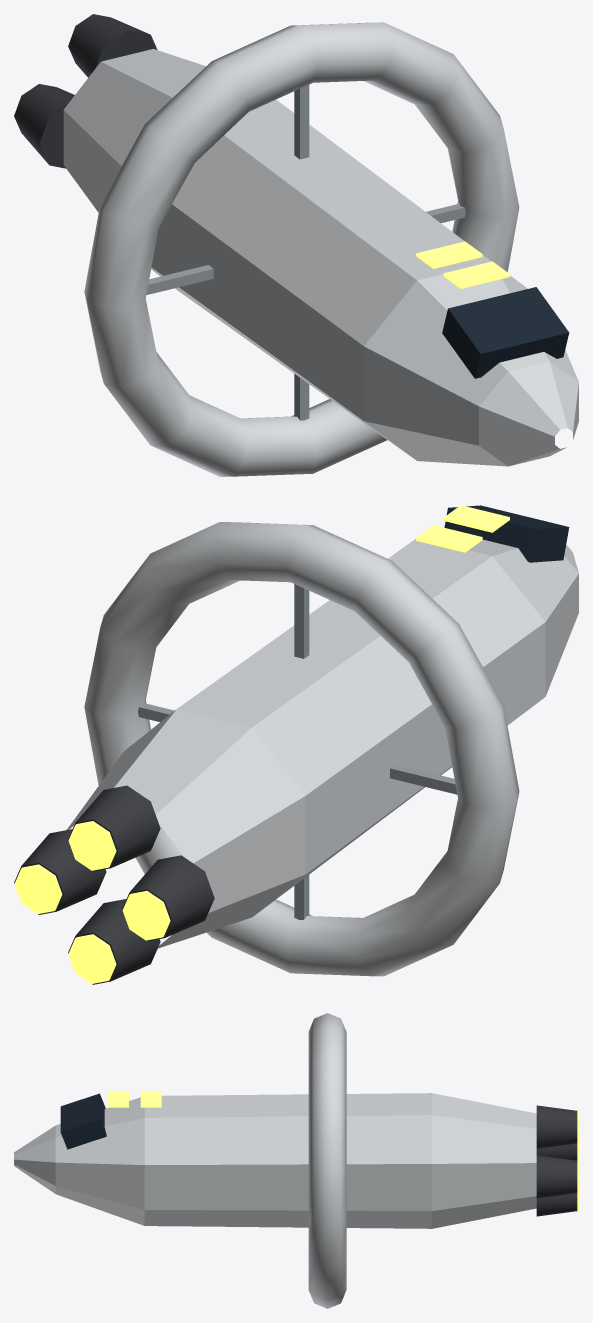
File: space_ship_colony_transport_mk1.glb
3 renders of one model, top to bottom at view 1: azimuth 30°, elevation 25°; view 2: azimuth 150°, elevation 25°; view 3: azimuth 270°, elevation 25°, orthographic. The views are drawn at different scales.
Parts seen in each view (by area): view 1: body, habitat_ring_0, engine_2, engine_1; view 2: body, habitat_ring_0, engine_1, engine_2, engine_3, engine_0; view 3: body, habitat_ring_0, engine_1, engine_0, engine_3, engine_2.
Boxes of the visible parts, left/top/right/bottom form: body: left=63, top=49, right=578, bottom=466; habitat_ring_0: left=84, top=22, right=519, bottom=476; engine_2: left=14, top=84, right=74, bottom=168; engine_1: left=68, top=14, right=157, bottom=77; body: left=67, top=505, right=578, bottom=948; habitat_ring_0: left=84, top=522, right=519, bottom=976; engine_1: left=68, top=785, right=160, bottom=871; engine_2: left=122, top=855, right=214, bottom=941; engine_3: left=68, top=899, right=160, bottom=984; engine_0: left=14, top=829, right=106, bottom=914; body: left=14, top=1091, right=536, bottom=1228; habitat_ring_0: left=308, top=1013, right=346, bottom=1308; engine_1: left=536, top=1105, right=578, bottom=1148; engine_0: left=536, top=1155, right=578, bottom=1198; engine_3: left=536, top=1192, right=578, bottom=1216; engine_2: left=536, top=1142, right=578, bottom=1160.
Size of what is drawn, in the model's own units: 22.67 by 22.67 by 43.24.
